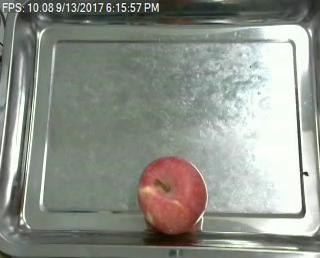apple: (136, 156, 207, 233)
